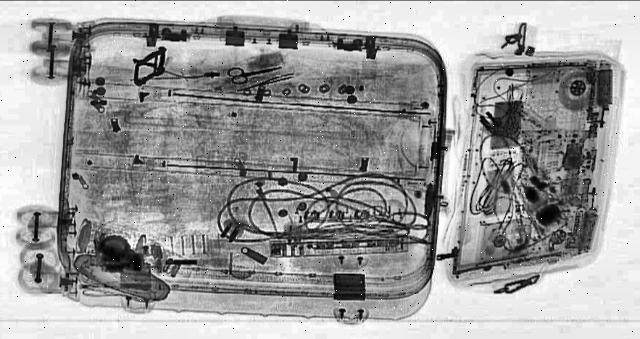Scissors: (222, 61, 290, 86)
